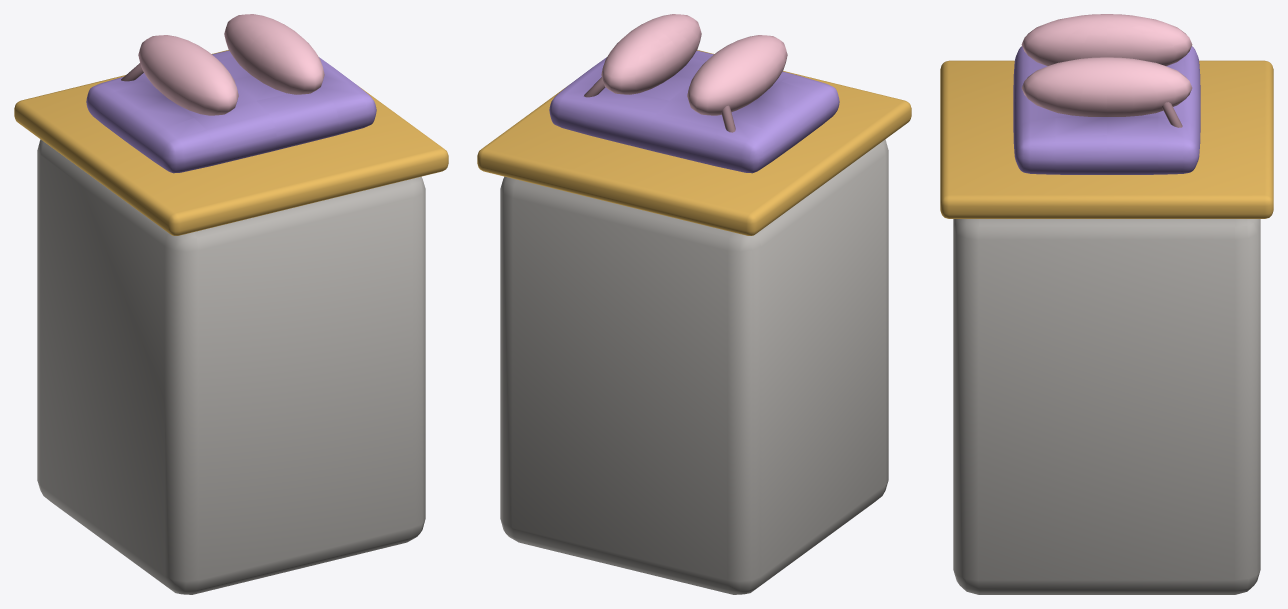
The model's file is gift-elise.glb.
3 renders of one model, left to right at view 1: azimuth 30°, elevation 25°; view 2: azimuth 150°, elevation 25°; view 3: azimuth 270°, elevation 25°, orthographic. The views are drawn at different scales.
Visible parts, largest first — view 1: gift-elise; view 2: gift-elise; view 3: gift-elise.
Boxes of the visible parts, <box> form: gift-elise: <box>14,14,448,594</box>; gift-elise: <box>477,14,911,594</box>; gift-elise: <box>940,14,1273,594</box>.
Size of the model in its own units: 0.39 by 0.645 by 0.39.
